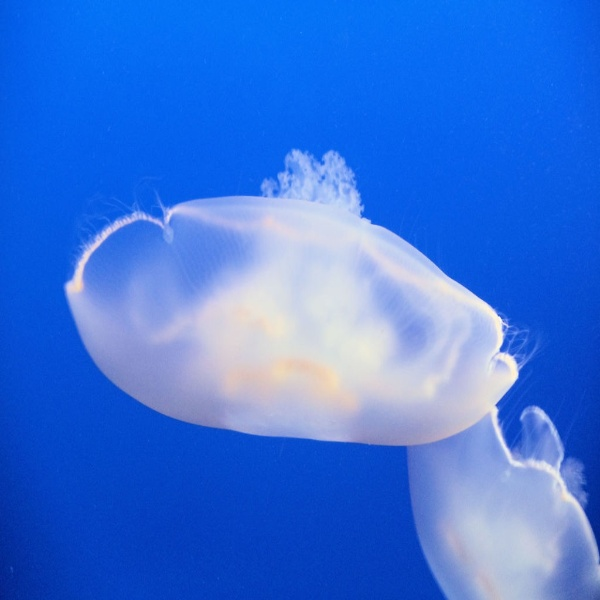Jellyfish: (62, 145, 551, 445), (408, 406, 599, 599)
